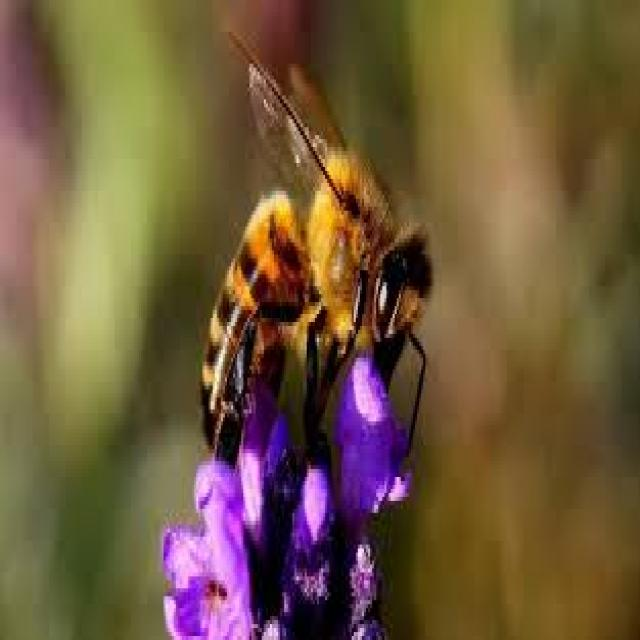Bees: (198, 23, 434, 475)
